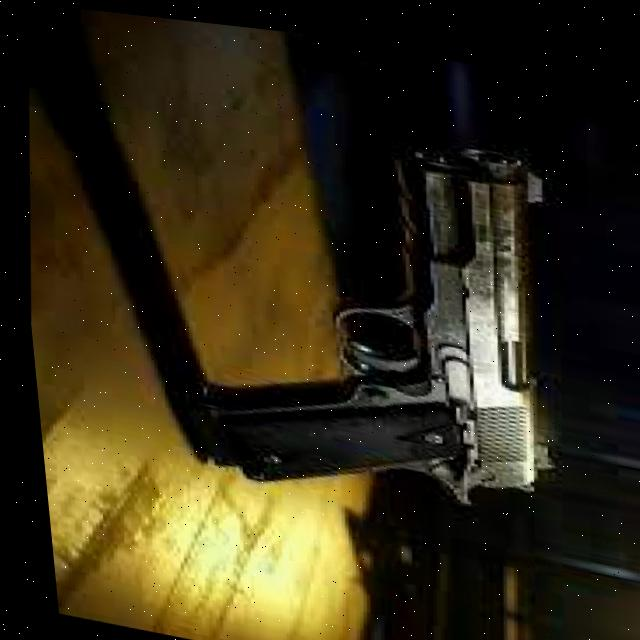gun: (189, 141, 542, 503)
